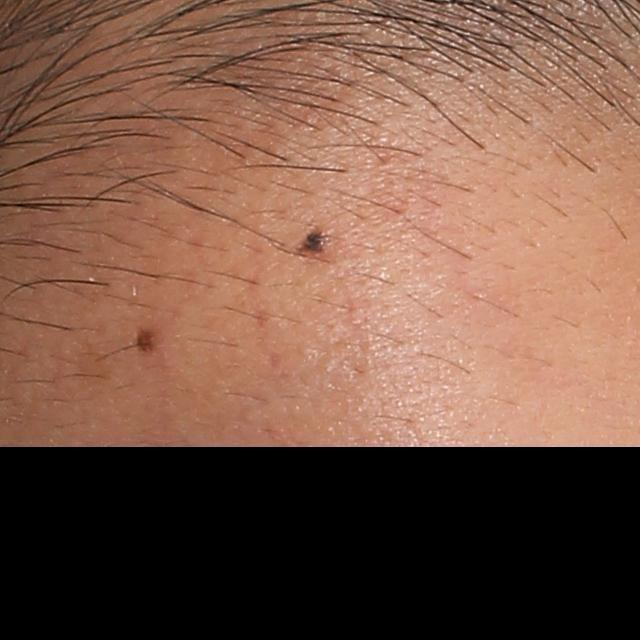nevus: (295, 222, 328, 258), (131, 324, 156, 357)
